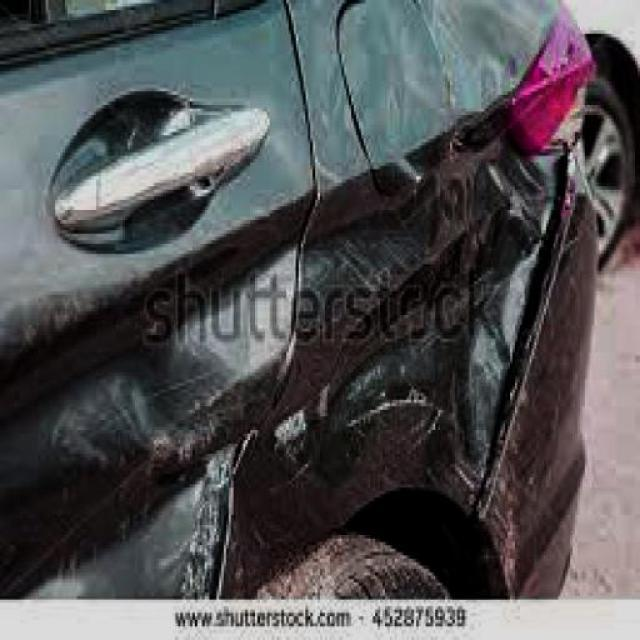car damage: (1, 5, 582, 599)
